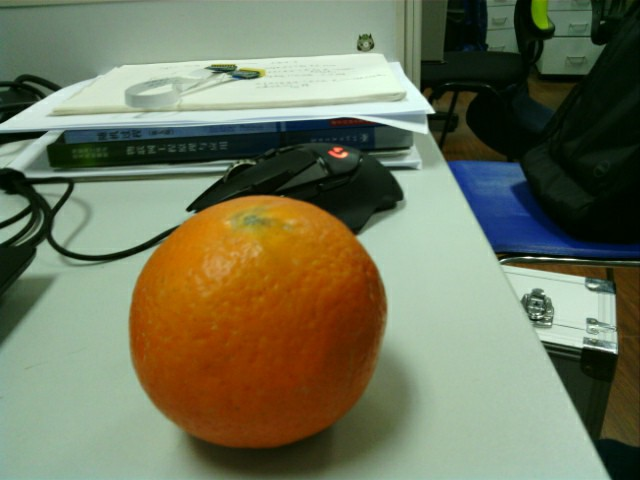normal_orange: (129, 195, 389, 450)
